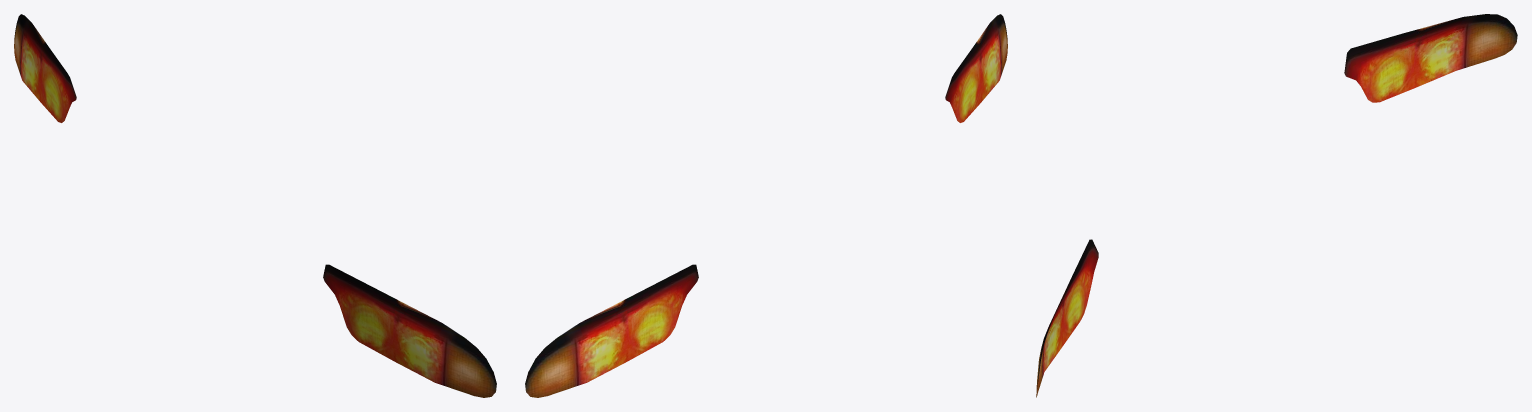
File: BRAKE_ON.glb
3 renders of one model, left to right at view 1: azimuth 30°, elevation 25°; view 2: azimuth 150°, elevation 25°; view 3: azimuth 330°, elevation 25°, orthographic.
Parts seen in each view (by area): view 1: BRAKE_GLASS_RIGHT_ON, BRAKE_GLASS_LEFT_ON; view 2: BRAKE_GLASS_LEFT_ON, BRAKE_GLASS_RIGHT_ON; view 3: BRAKE_GLASS_LEFT_ON, BRAKE_GLASS_RIGHT_ON.
Boxes of the visible parts, x1,y1,x2,y2 form: BRAKE_GLASS_RIGHT_ON: (323,264,496,397); BRAKE_GLASS_LEFT_ON: (14,14,76,122); BRAKE_GLASS_LEFT_ON: (525,264,698,397); BRAKE_GLASS_RIGHT_ON: (945,14,1007,122); BRAKE_GLASS_LEFT_ON: (1344,14,1517,102); BRAKE_GLASS_RIGHT_ON: (1036,239,1098,397).
Bounding box in the file's own units: 0.0993 × 0.1153 × 1.42.
Materials: 2 (2 with a texture image).
